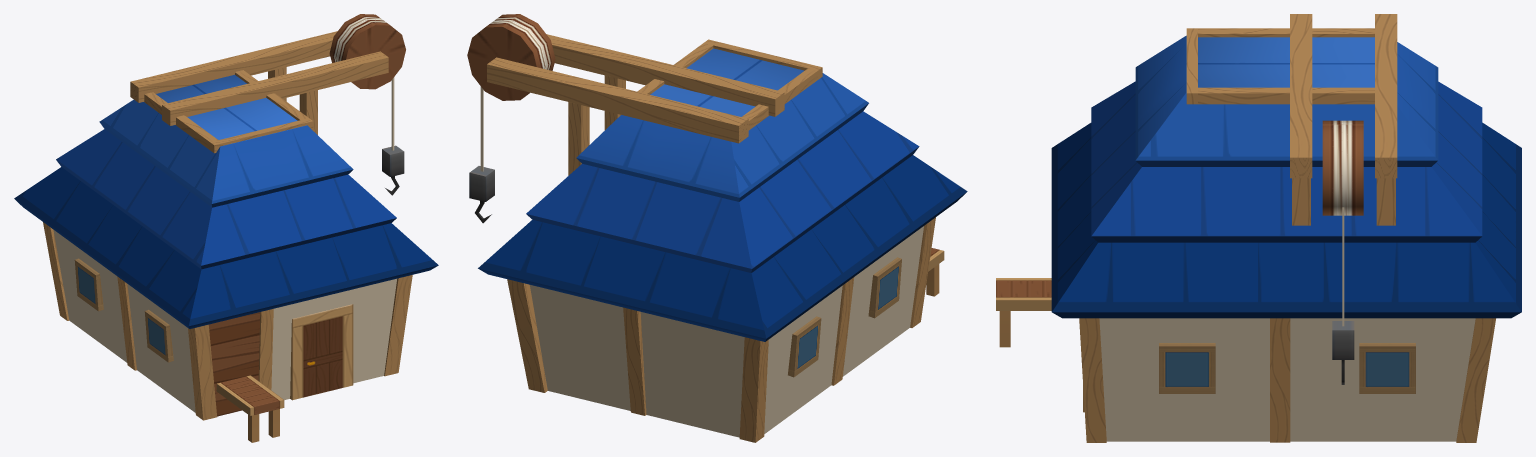
The model's file is building_storage_lv2.FBX.
3 renders of one model, left to right at view 1: azimuth 30°, elevation 25°; view 2: azimuth 150°, elevation 25°; view 3: azimuth 270°, elevation 25°, orthographic. The views are drawn at different scales.
Visible parts, largest first — view 1: building_storage_roof_lv2, building_storage_lv2; view 2: building_storage_roof_lv2, building_storage_lv2; view 3: building_storage_roof_lv2, building_storage_lv2.
Boxes of the visible parts, x1,y1,x2,y2 form: building_storage_roof_lv2: (14,74,438,328); building_storage_lv2: (43,14,412,442); building_storage_roof_lv2: (478,48,967,341); building_storage_lv2: (467,14,944,442); building_storage_roof_lv2: (1051,35,1521,318); building_storage_lv2: (996,14,1495,442).
Bounding box in the file's own units: 453 × 366 × 479.
